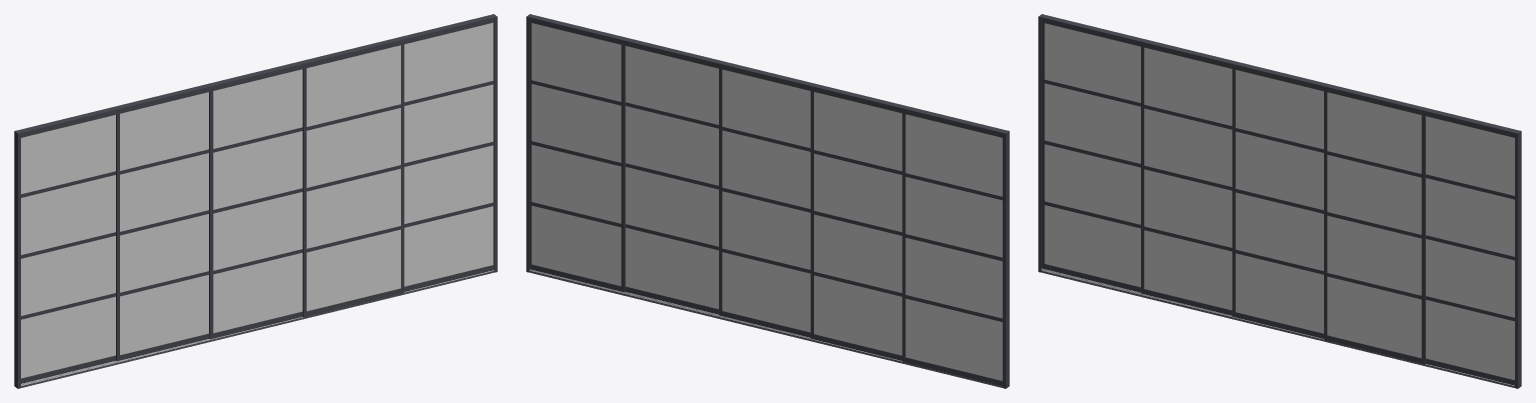
Rendered from nebbiolo_steel_door_front_500_350.glb.
3 renders of one model, left to right at view 1: azimuth 30°, elevation 25°; view 2: azimuth 150°, elevation 25°; view 3: azimuth 330°, elevation 25°, orthographic.
Visible parts, largest first — view 1: steel_door_front_500_350; view 2: steel_door_front_500_350; view 3: steel_door_front_500_350.
Part boxes in pixels (box(x1,y1,x2,y2)): steel_door_front_500_350: box(14, 14, 497, 388); steel_door_front_500_350: box(526, 14, 1009, 388); steel_door_front_500_350: box(1038, 14, 1521, 388).
Bounding box in the file's own units: 4.91 × 2.5 × 0.065.
Materials: 3 (1 with a texture image).
